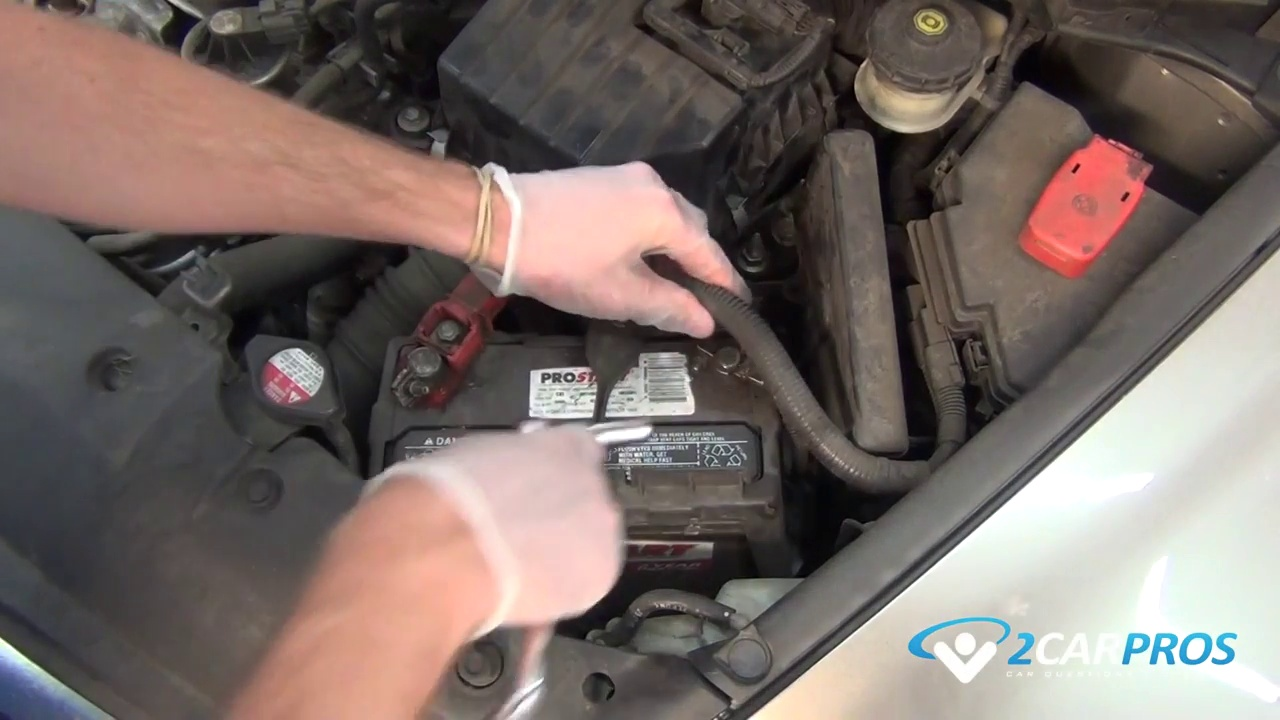battery: (359, 324, 778, 536)
neg_connected: (674, 323, 767, 395)
neg_touched: (637, 236, 774, 388)
pos_connected: (355, 264, 526, 409)
